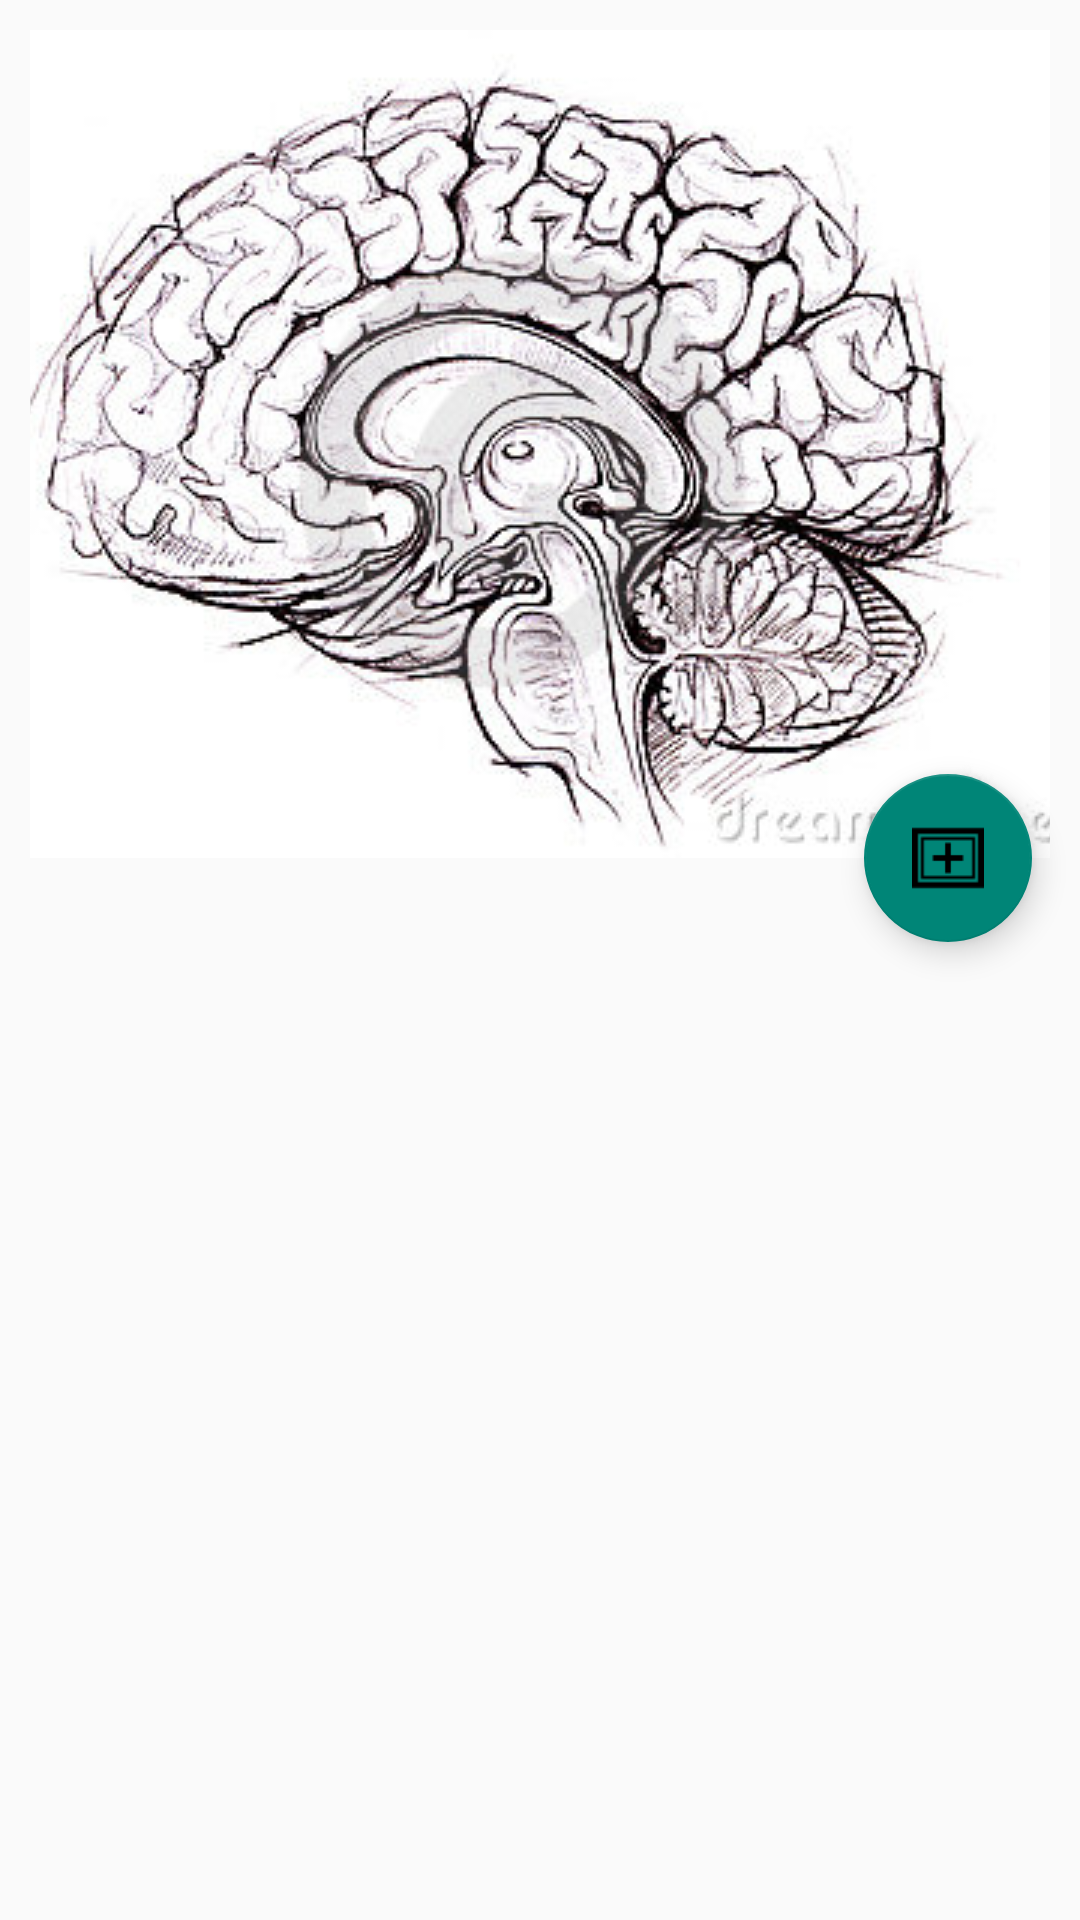

Screen size 1080×1920. Icon name, then its box in pixels as rect(x1, y1, x2, y2):
add: rect(864, 774, 1032, 942)
